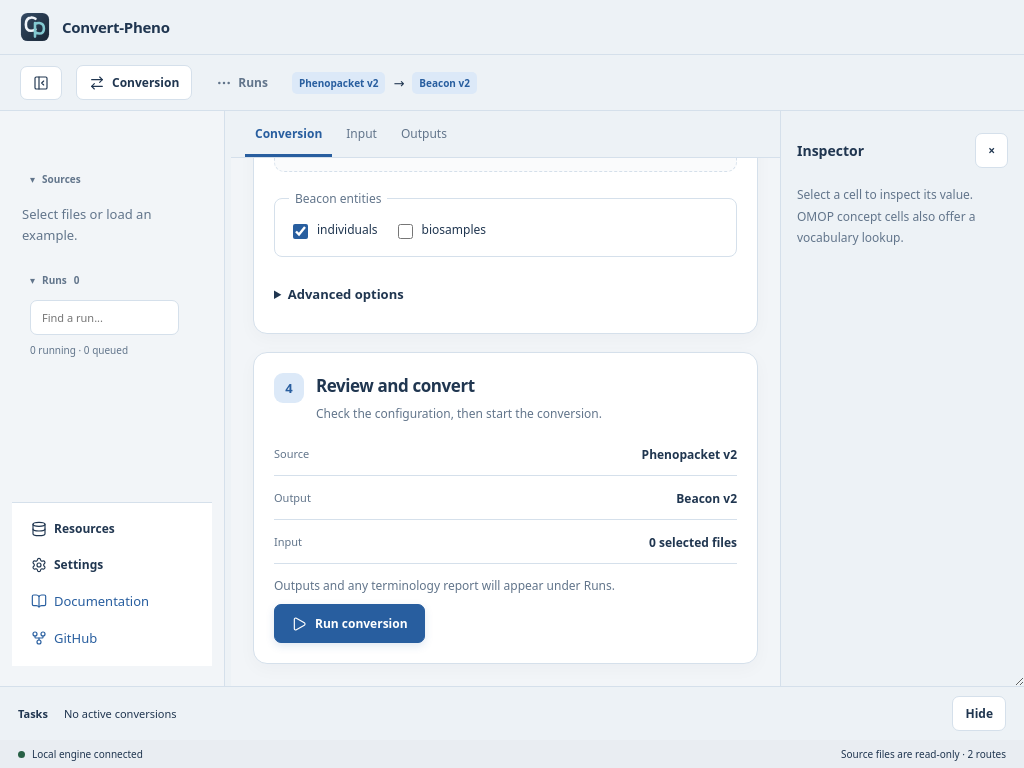
Test: native desktop workspace › requires the input files declared by the registry
The image size is (1024, 768).
(page scrolled)
Expected: the element named "Conversion formats" is shown, [292, 72, 477, 94]
Click the button "Run conversion" at (349, 624), box [274, 604, 425, 643]
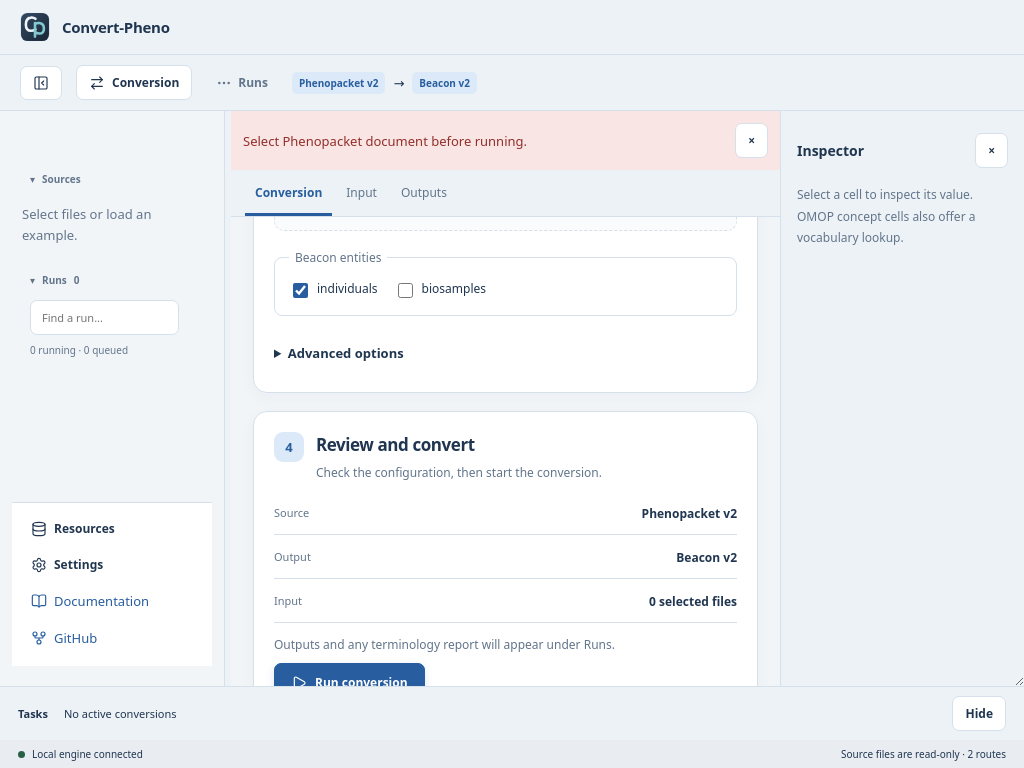
Expected: the message shows "Select Phenopacket document", [243, 132, 527, 150]
